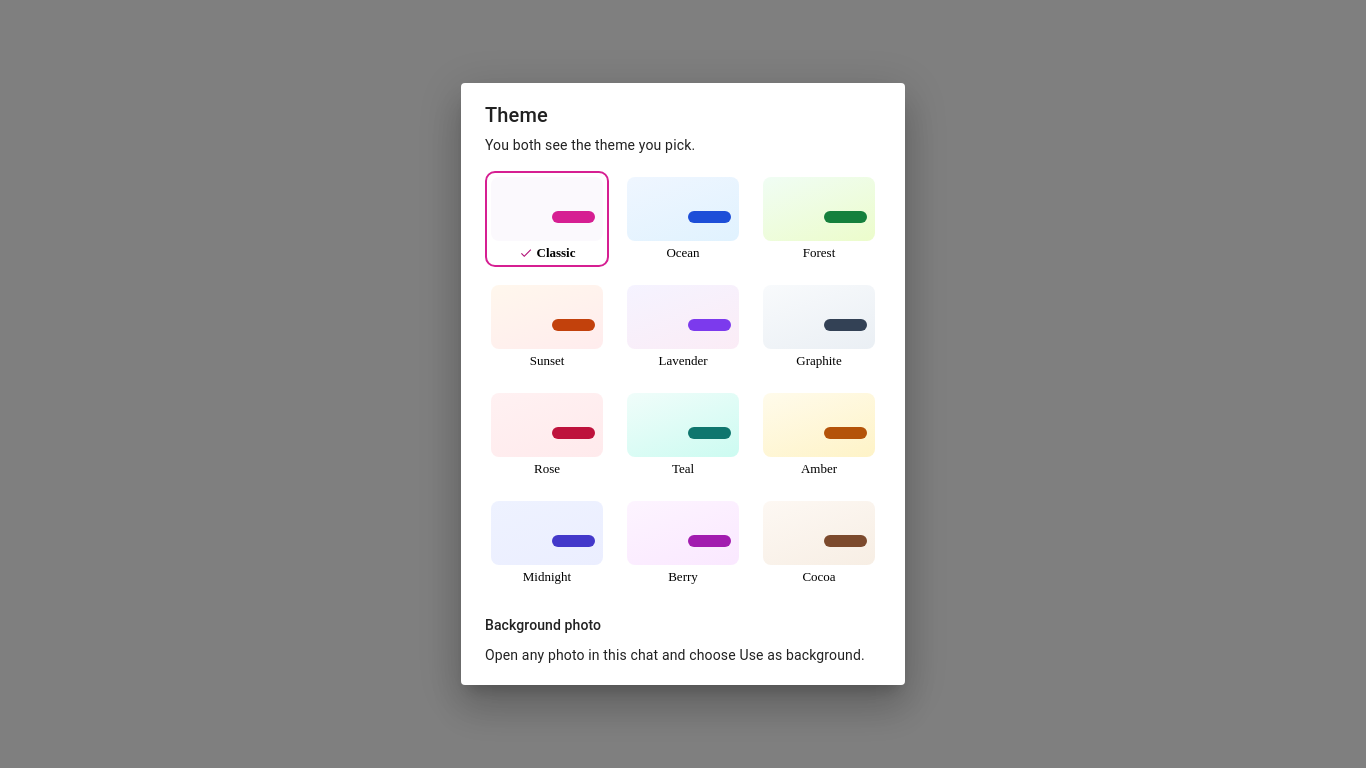
Test case: ThemePicker › says so when a change fails
Click the radio button labelled "Sunset". click: point(547, 327)
box: [485,279,609,375]
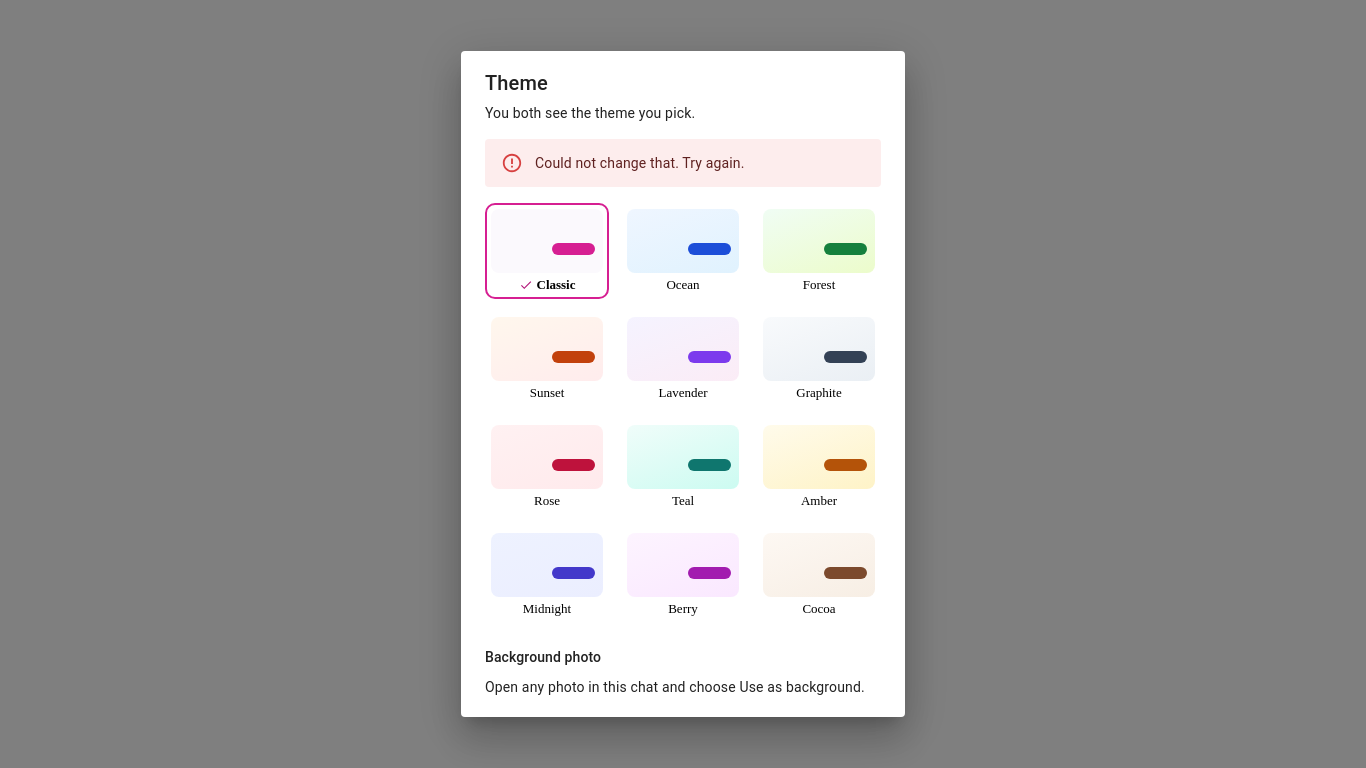
Check: the text "Could not change that. Try again." is shown, box [535,155,745,171]
